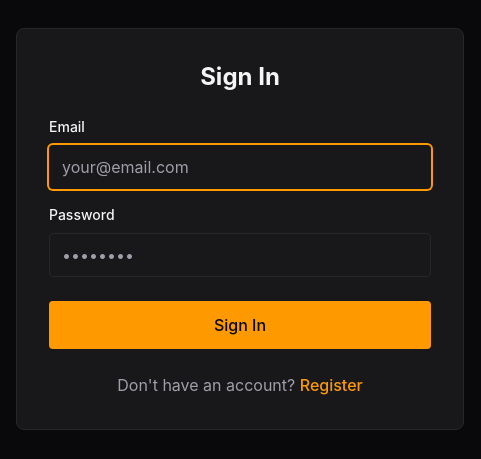
it: Phase 1+2: Foundation, Auth Store & Auth UI › LoginPage (AUTH-02) › validates password minimum length on blur (AUTH-02)
The width and height of the screenshot is (481, 459).
Type "abc" into the password field labelled "Password" at (240, 255), box [49, 233, 431, 277]
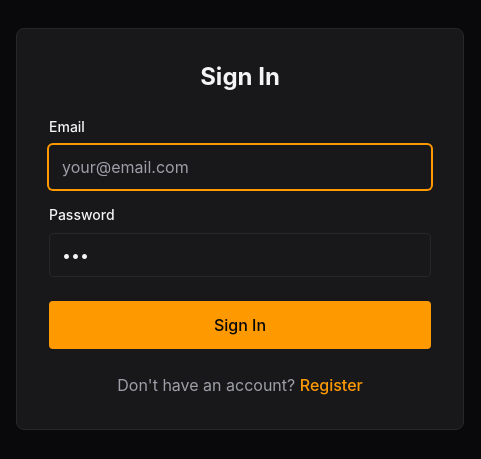
Leave the password field labelled "Password", box [49, 233, 431, 277]
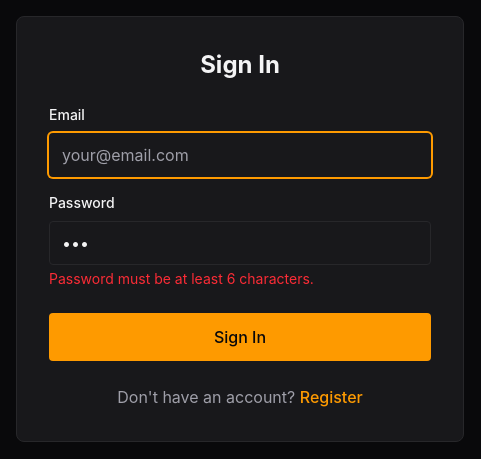
Expected: the text "Password must be at least 6 characters." is shown, [49, 270, 314, 287]
